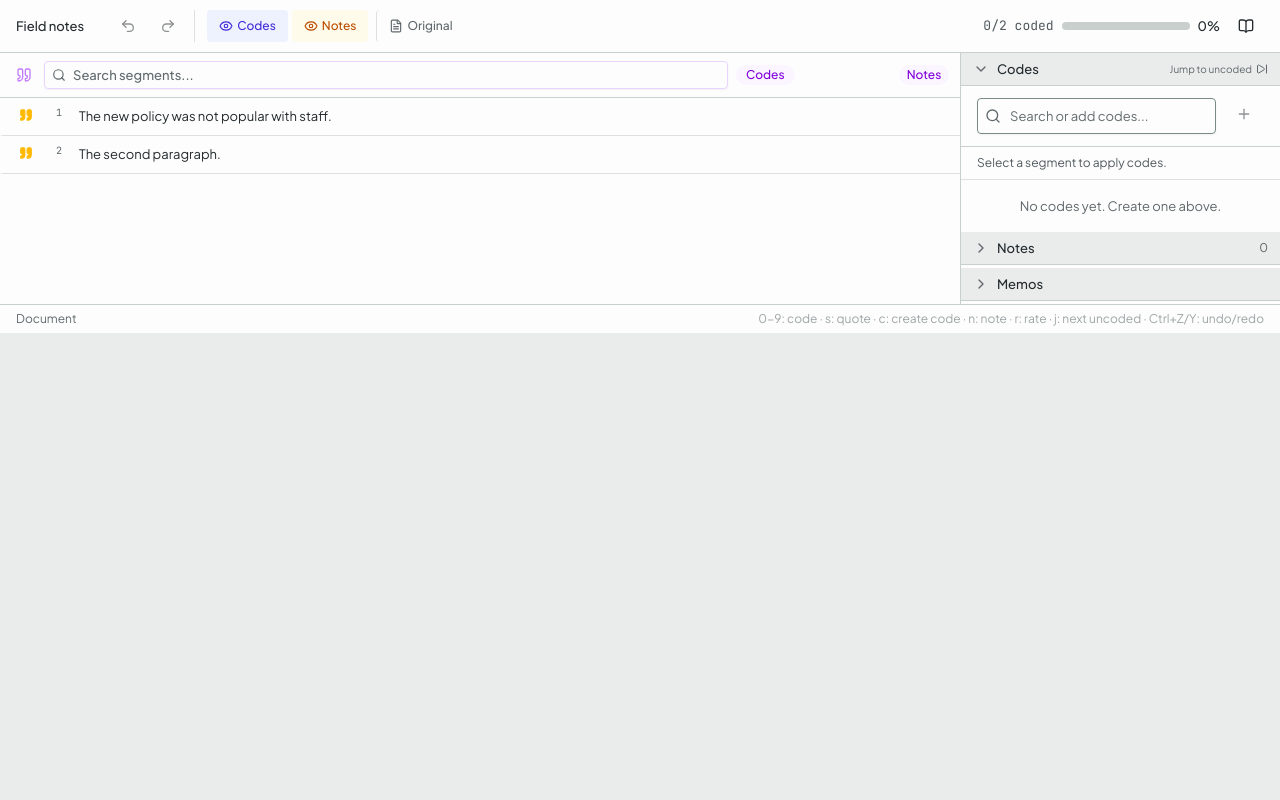
Test: #1319 — a paragraph edit on the document workbench › remove saves with the gone quote named, then closes the editor and says Saved
Double-click the option "1 The new policy was not popular with staff." at point(205, 116), box 0,98 -> 960,136
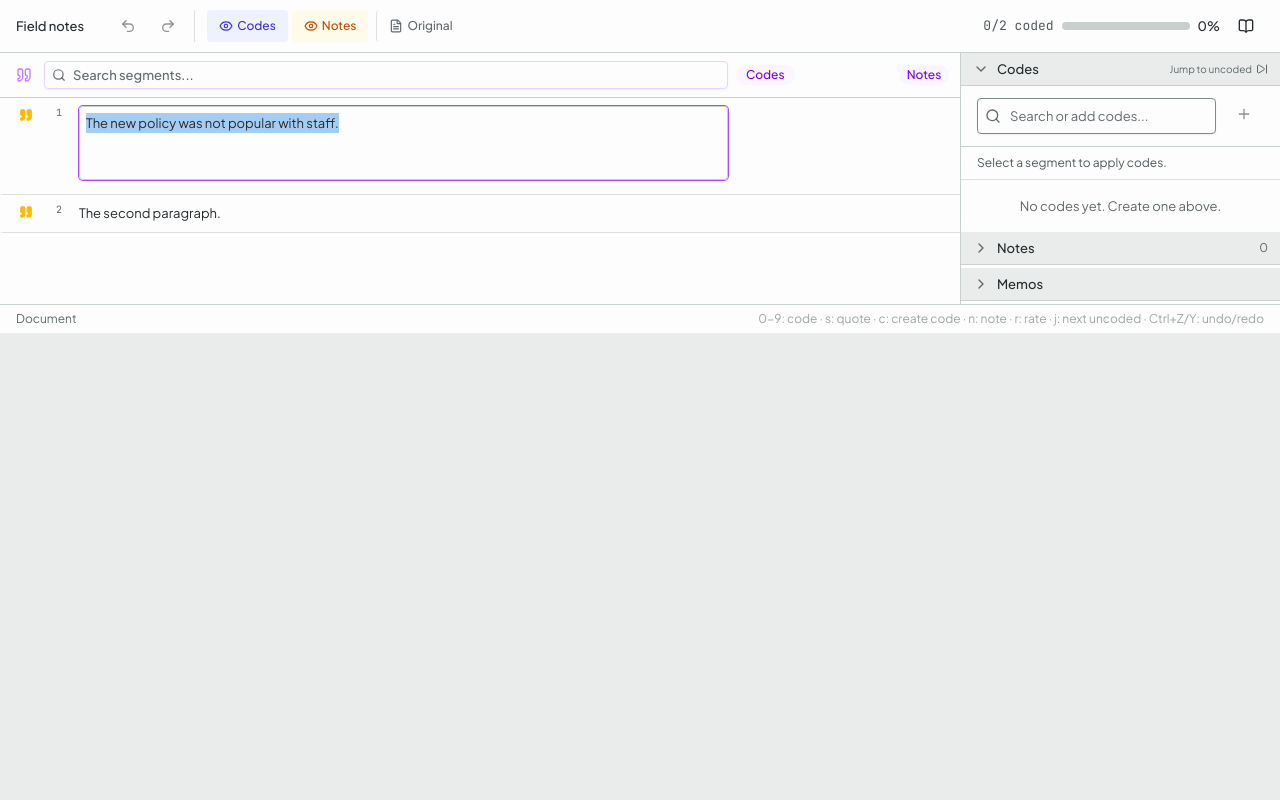
Replace the text in the text box named "Edit segment text" with "The policy was not popular." at point(404, 143), box 79,106 -> 728,180
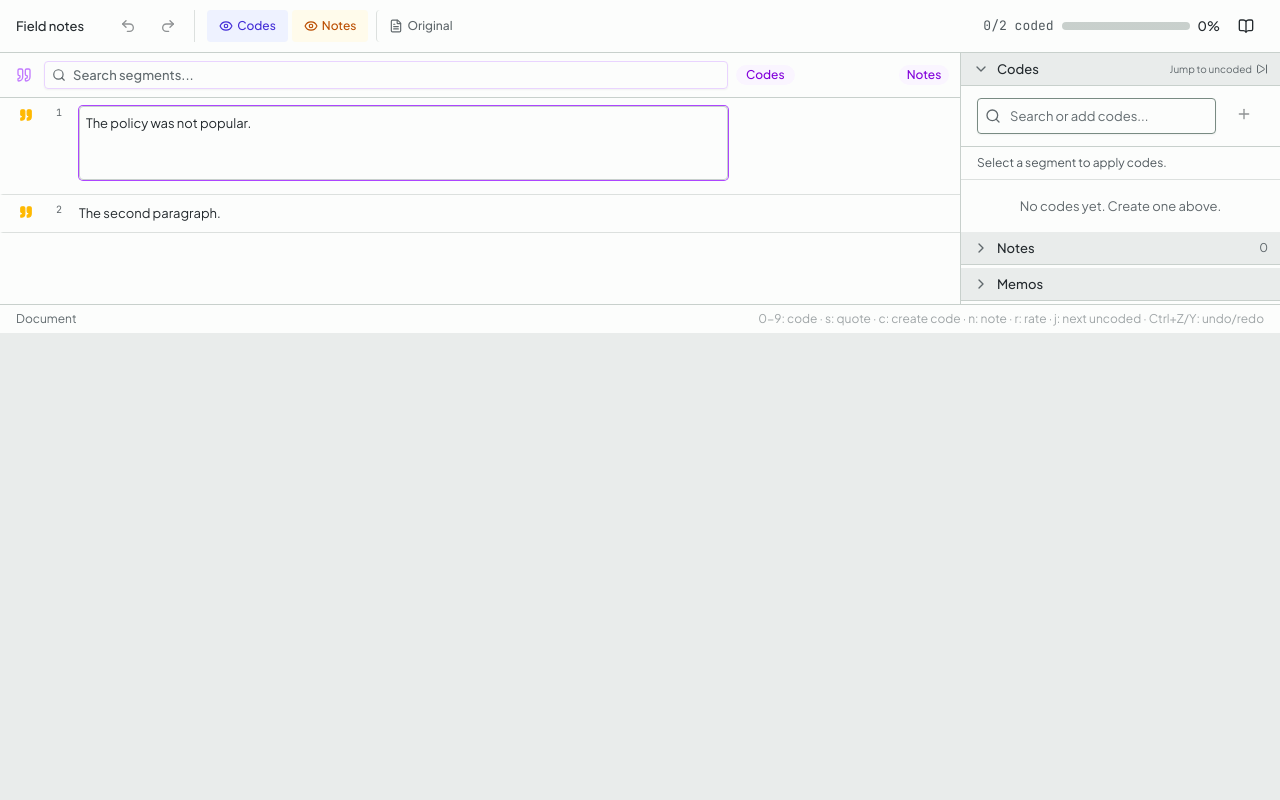
Press Enter in the text box named "Edit segment text", box 79,106 -> 728,180
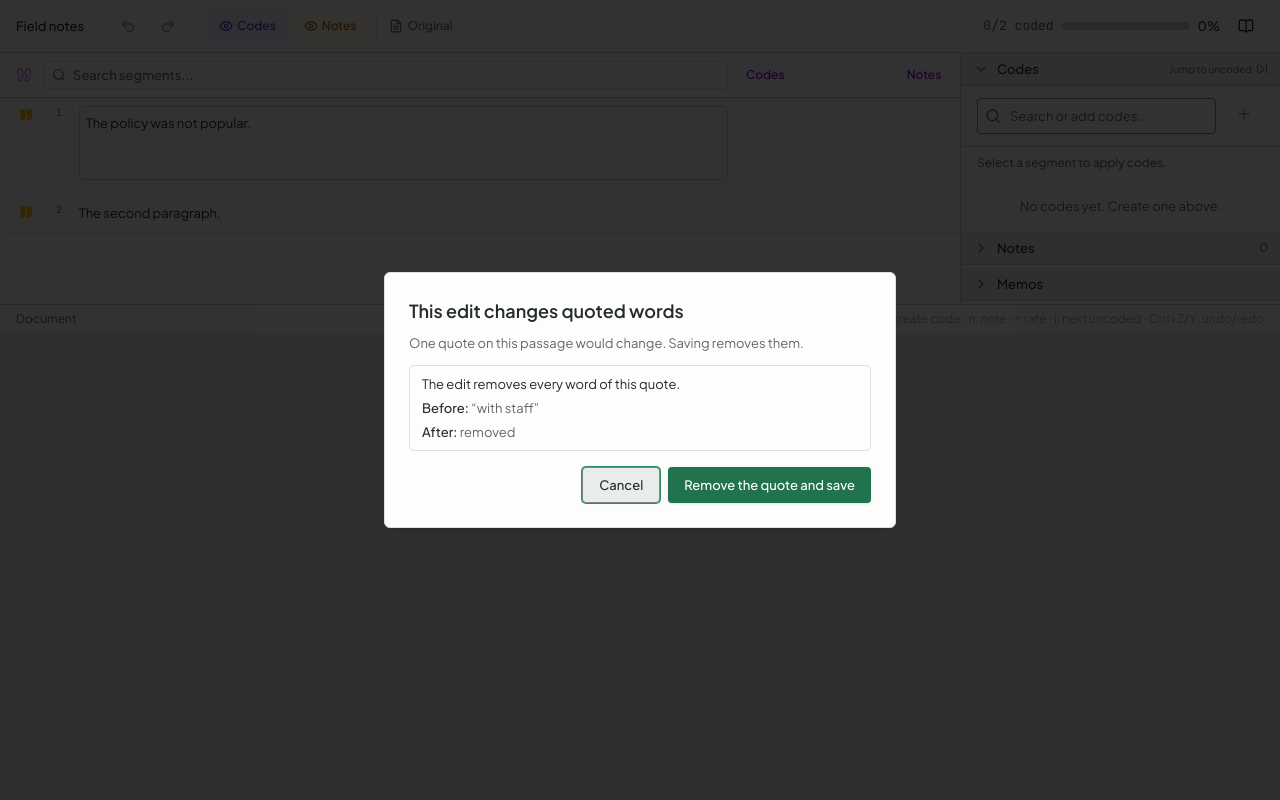
Click the button "Remove the quote and save" at point(770, 485), box 668,467 -> 871,503
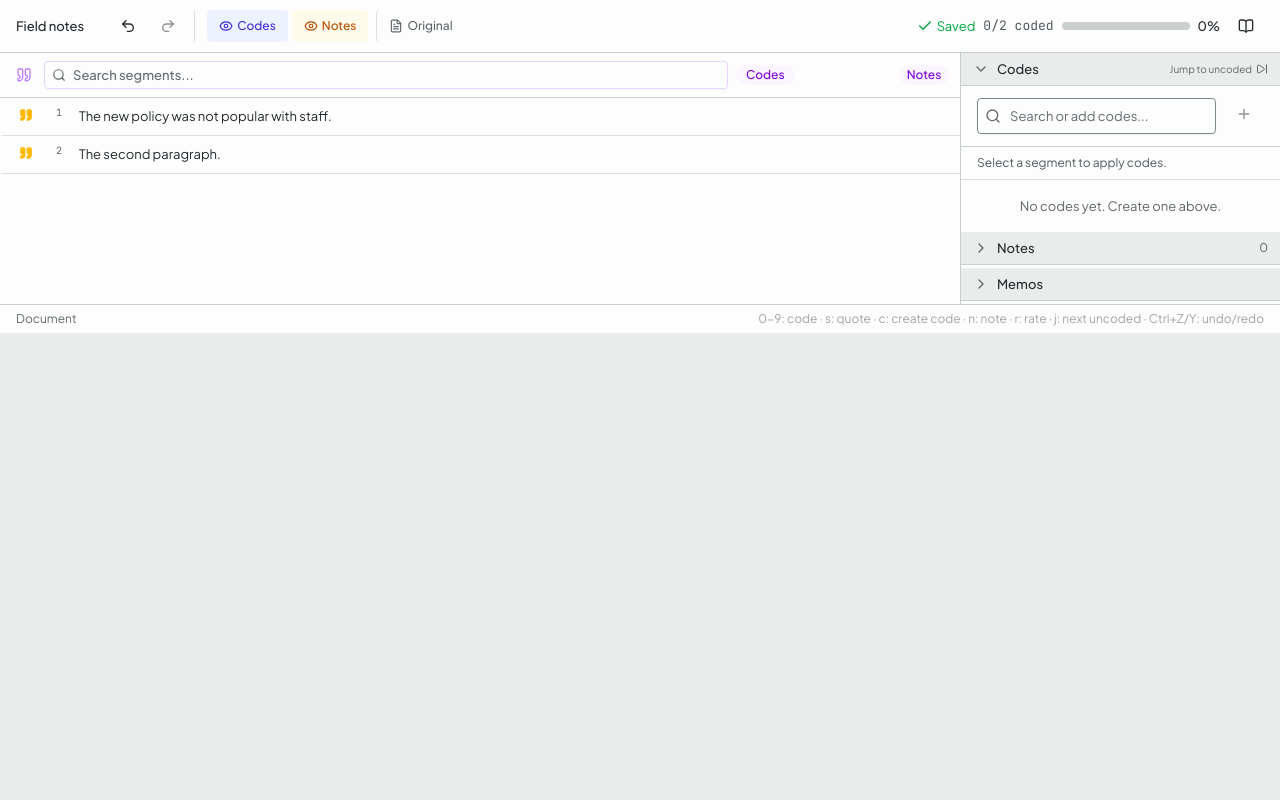
Check: the text "Saved" is shown, box 917,16 -> 975,36
